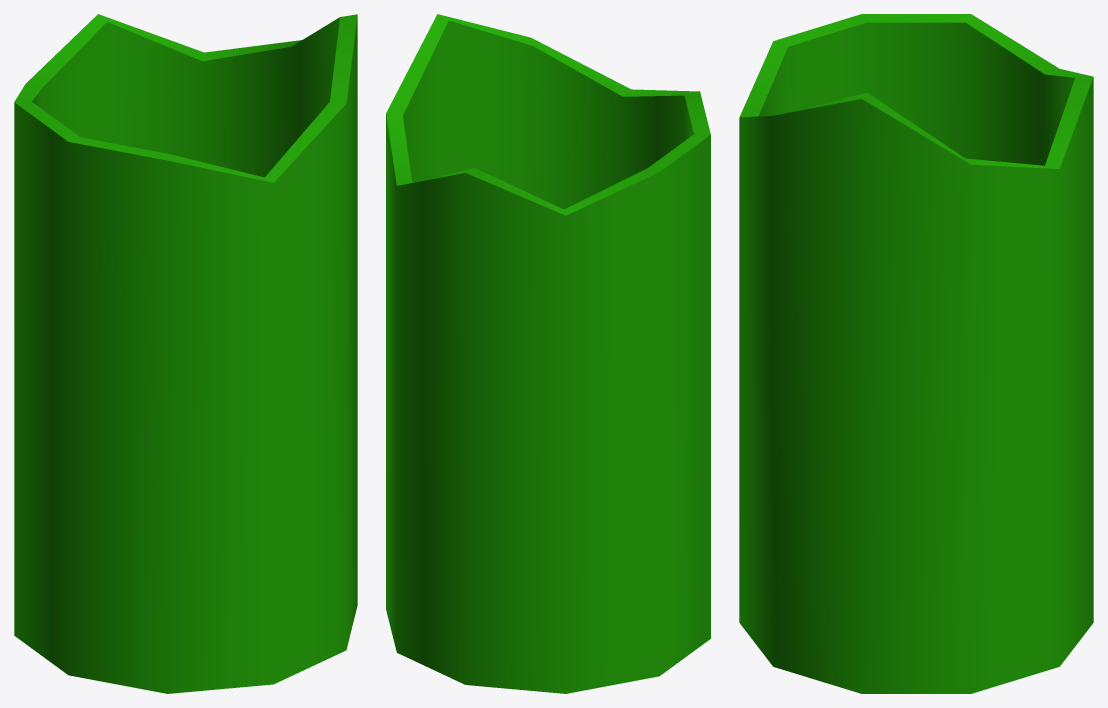
Rendered from BrokenWineBottleBottomVar1.fbx.
3 renders of one model, left to right at view 1: azimuth 30°, elevation 25°; view 2: azimuth 150°, elevation 25°; view 3: azimuth 270°, elevation 25°, orthographic. The views are drawn at different scales.
Parts seen in each view (by area): view 1: BrokenWineBottleBottomVar1; view 2: BrokenWineBottleBottomVar1; view 3: BrokenWineBottleBottomVar1.
Part boxes in pixels (x1,y1,x2,y2): BrokenWineBottleBottomVar1: (14, 14, 357, 693); BrokenWineBottleBottomVar1: (386, 14, 710, 693); BrokenWineBottleBottomVar1: (739, 14, 1093, 693).
Bounding box in the file's own units: 23.75 × 46.3 × 24.97.
